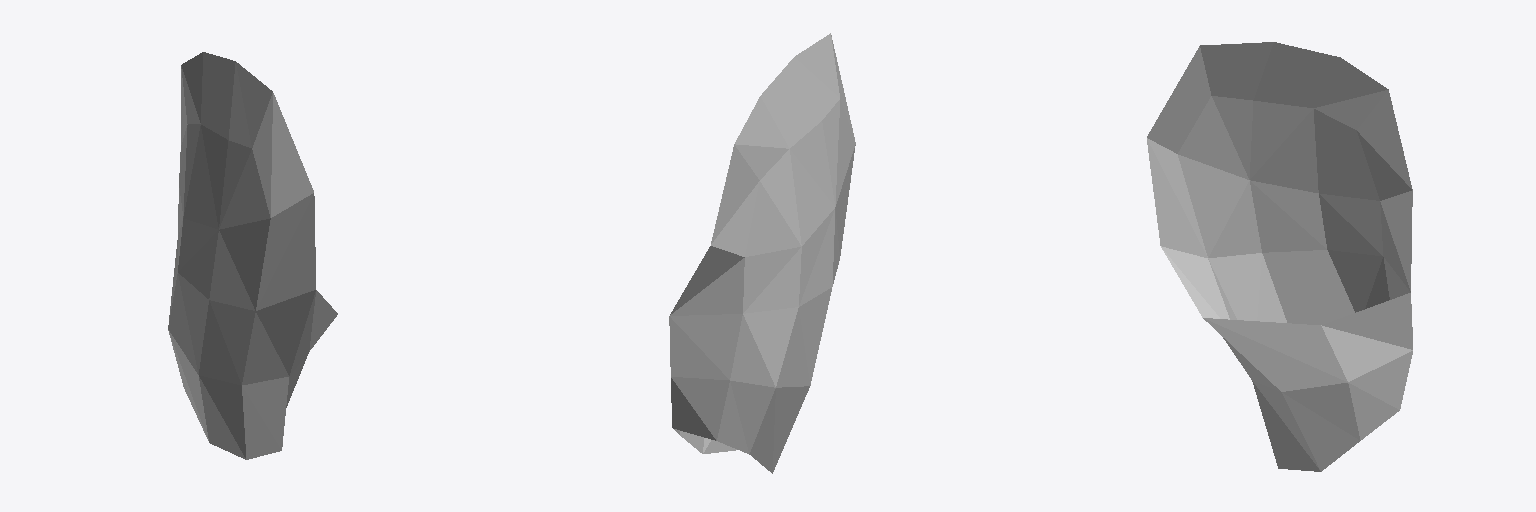
Rendered from 06A_front_right.obj.
3 views of the same model, side by side, from view 1: azimuth 30°, elevation 25°; view 2: azimuth 150°, elevation 25°; view 3: azimuth 270°, elevation 25° (orthographic).
Visible parts, largest first — view 1: front_right1 WolfMesh; view 2: front_right1 WolfMesh; view 3: front_right1 WolfMesh.
Boxes of the visible parts, <box> form: front_right1 WolfMesh: <box>168,52,337,459</box>; front_right1 WolfMesh: <box>669,33,855,473</box>; front_right1 WolfMesh: <box>1147,42,1412,471</box>.
Size of the model in its own units: 0.294 by 1.02 by 0.6103.